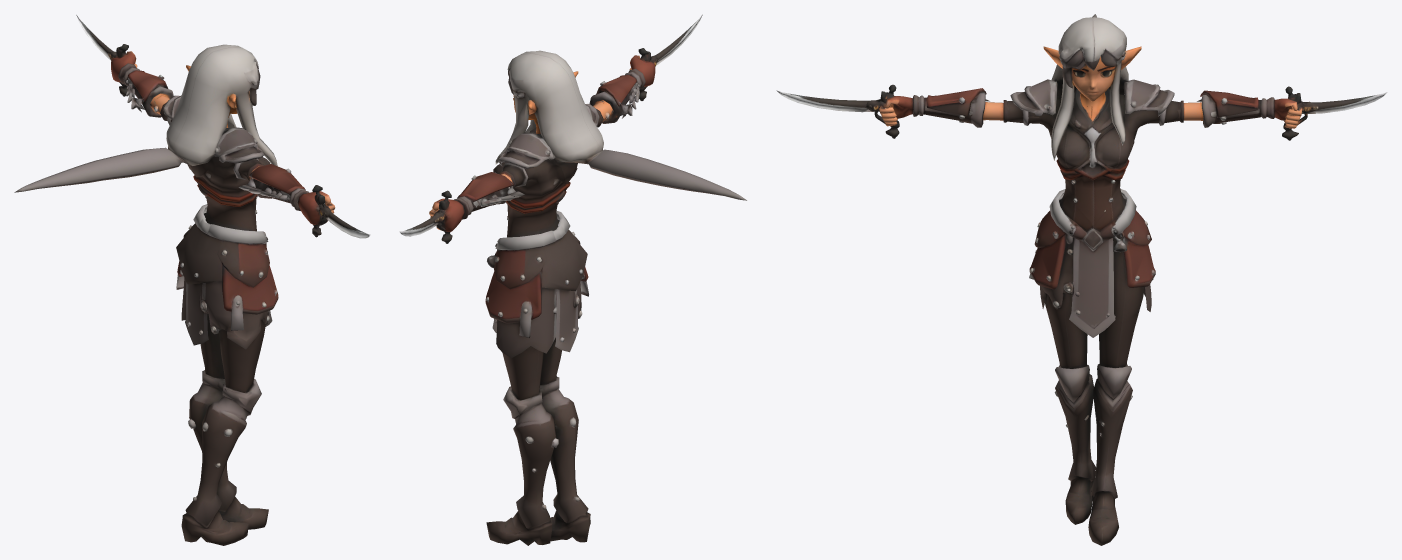
Rendered from Elf_Girl_Tpose.glb.
3 views of the same model, side by side, from view 1: azimuth 30°, elevation 25°; view 2: azimuth 150°, elevation 25°; view 3: azimuth 270°, elevation 25° (orthographic). The views are drawn at different scales.
Parts seen in each view (by area): view 1: node_33f70dfa-3b3f-4fc0-a5a6-8dcdee159f1f; view 2: node_33f70dfa-3b3f-4fc0-a5a6-8dcdee159f1f; view 3: node_33f70dfa-3b3f-4fc0-a5a6-8dcdee159f1f.
Boxes of the visible parts, bbox=[...] form: node_33f70dfa-3b3f-4fc0-a5a6-8dcdee159f1f: bbox=[14, 15, 370, 545]; node_33f70dfa-3b3f-4fc0-a5a6-8dcdee159f1f: bbox=[399, 14, 746, 545]; node_33f70dfa-3b3f-4fc0-a5a6-8dcdee159f1f: bbox=[776, 14, 1387, 545].
Size of the model in its own units: 0.4976 by 0.9019 by 0.9995.
1 material, 1 textured.
